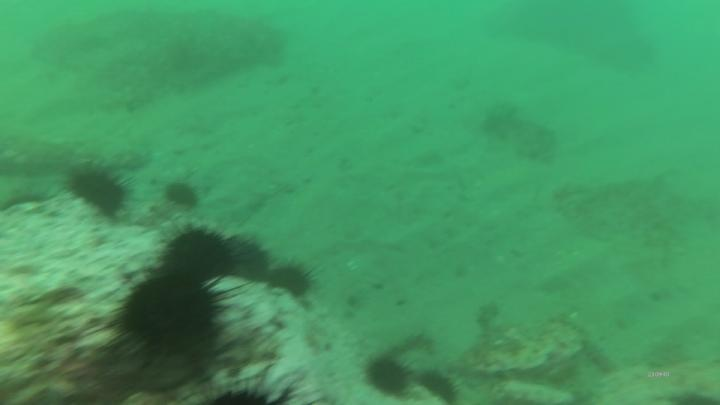echinus: (115, 268, 223, 360), (153, 216, 249, 285), (68, 163, 128, 221), (359, 351, 419, 399), (225, 232, 271, 283), (268, 260, 312, 301), (420, 369, 459, 403), (166, 178, 198, 209)
